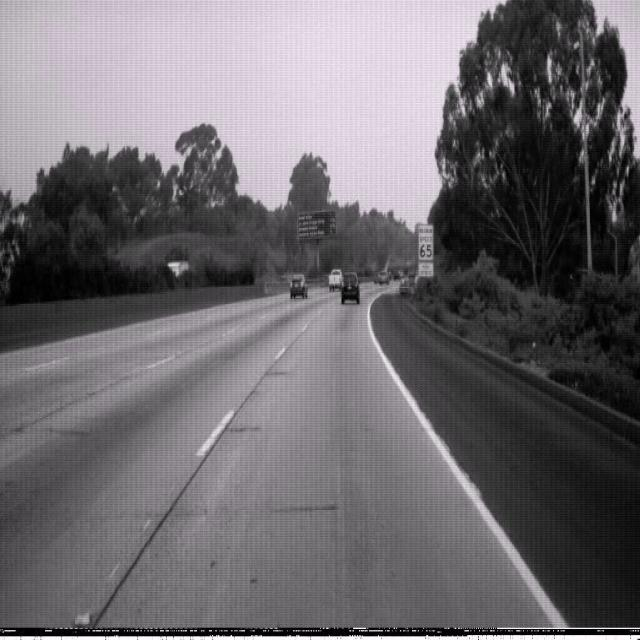speedLimit65: (418, 222, 433, 260)
